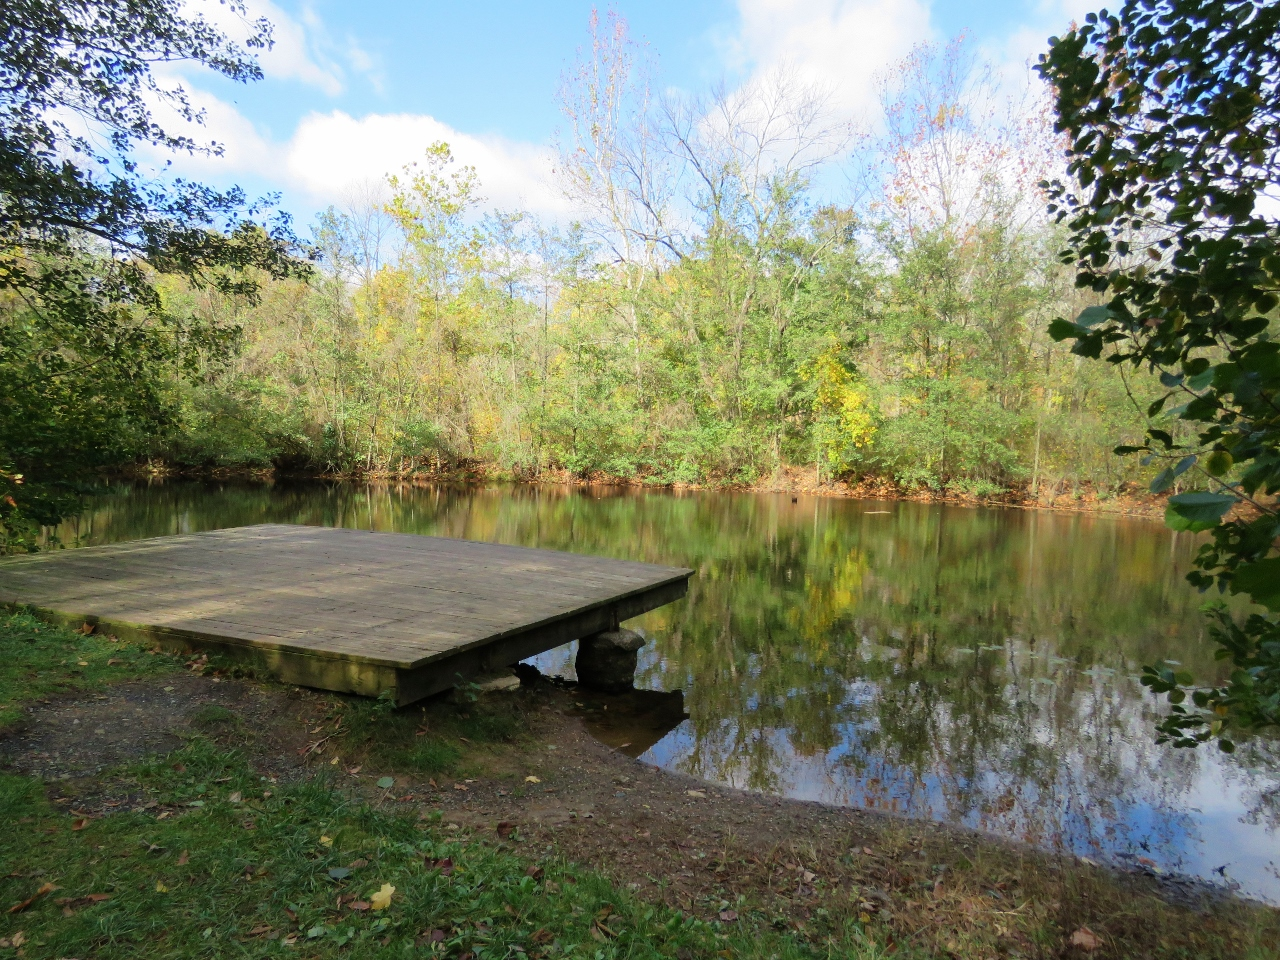sky: (13, 1, 1280, 244)
tree: (538, 1, 677, 438), (395, 131, 498, 471)
vegetation: (13, 255, 1280, 482)
water: (637, 471, 1280, 899), (33, 458, 688, 565)
